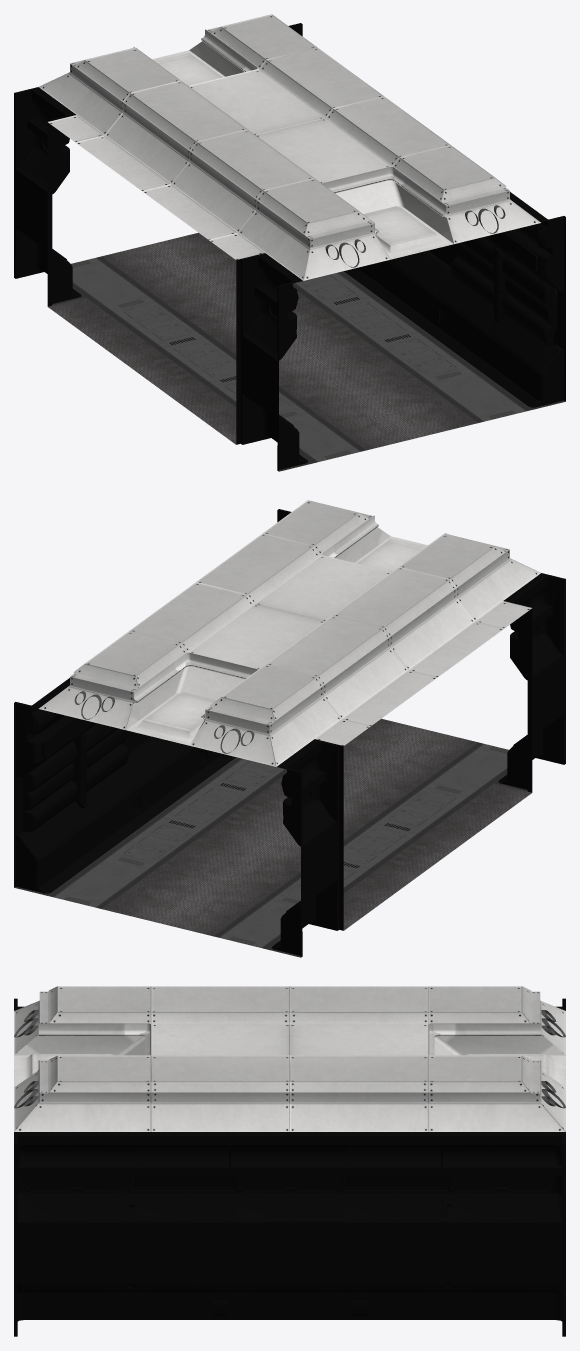
Rendered from HallwayDoorOpening.fbx.
3 views of the same model, one above another, from view 1: azimuth 30°, elevation 25°; view 2: azimuth 150°, elevation 25°; view 3: azimuth 270°, elevation 25° (orthographic). The views are drawn at different scales.
Parts seen in each view (by area): view 1: HallwayDoorOpening001; view 2: HallwayDoorOpening001; view 3: HallwayDoorOpening001.
Boxes of the visible parts, left/top/right/bottom form: HallwayDoorOpening001: left=14, top=14, right=565, bottom=471; HallwayDoorOpening001: left=14, top=500, right=565, bottom=957; HallwayDoorOpening001: left=14, top=986, right=565, bottom=1336.
Size of the model in its own units: 661 by 478 by 1040.
